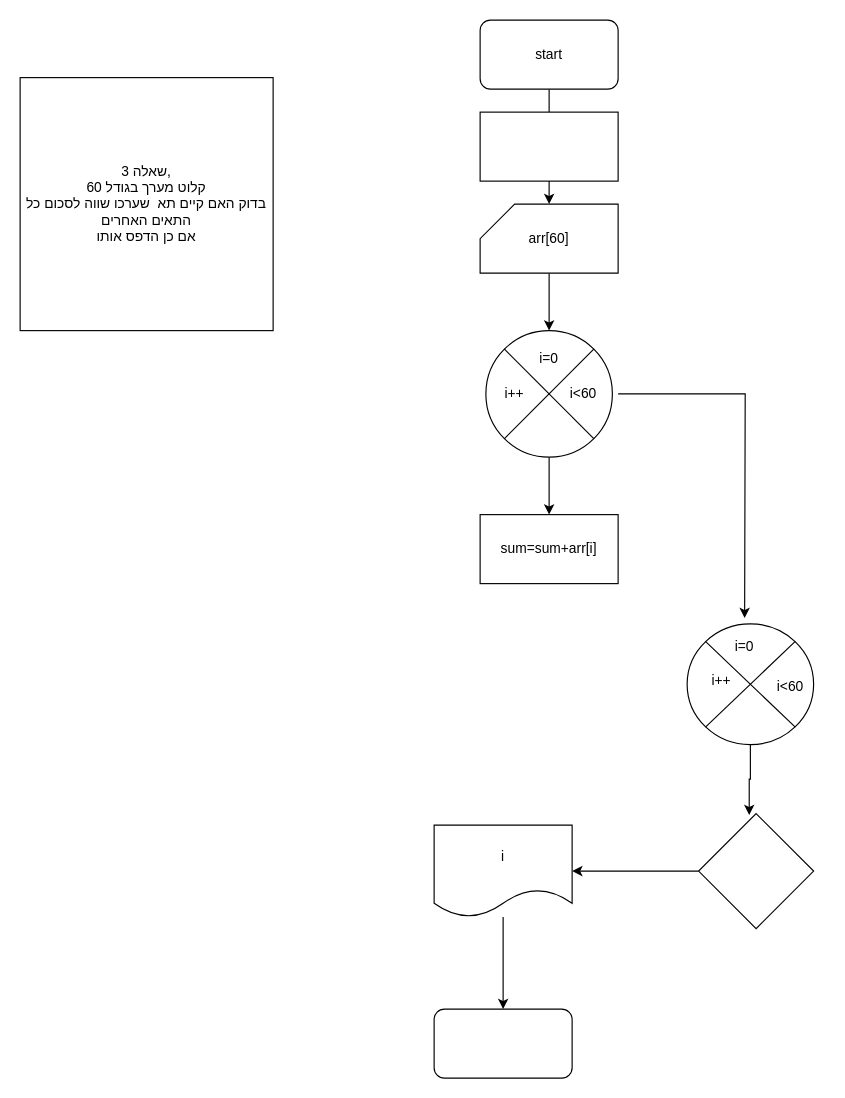
Some shapes in this 845 by 1098 pixel diagram are drawn without their labels. The shapes that lost their labels are listed below. From the top down, each one's centre as x and y in pixels, then its label:
At (x=548, y=146): "sum=0".
At (x=755, y=870): "arr[i]==sum/2".
At (x=502, y=1043): "stop".
